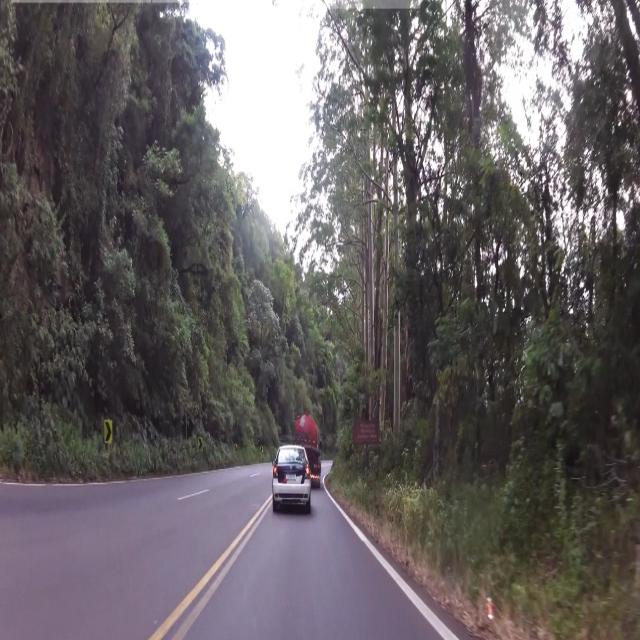Del: (102, 414, 116, 449)
